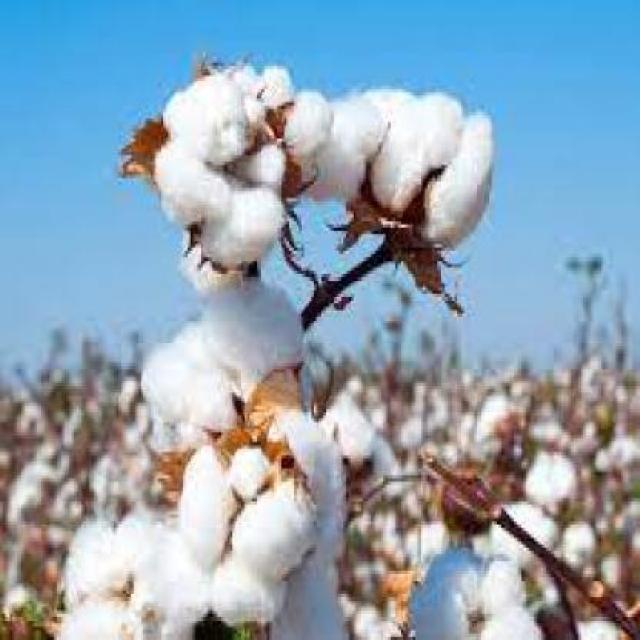cotton_ready: (45, 418, 368, 637), (292, 39, 514, 287), (111, 37, 338, 274), (106, 300, 399, 458)
